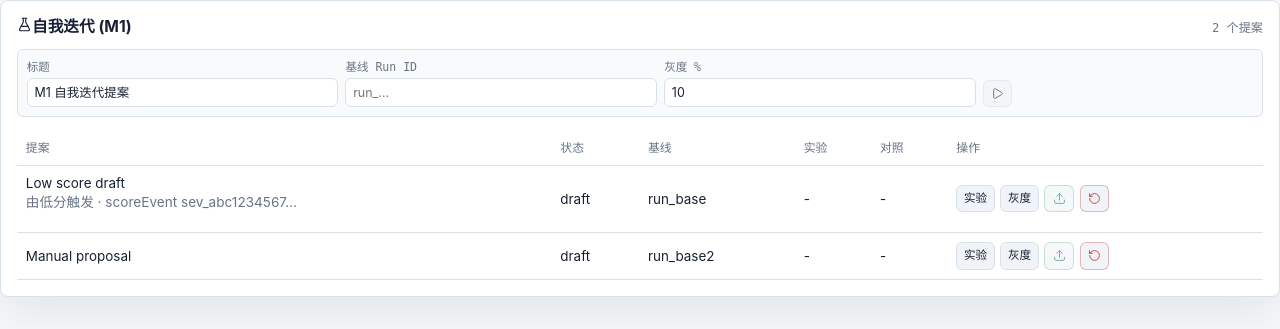
Test case: ImproveProposalsPane › disables canary when percent is out of 1–100
This screenshot has width=1280, height=329.
Check: the button with test id "improve-canary-imp_low" is shown, box [1000,185,1039,212]
Replace the text in the number field with test id "improve-canary-percent" with "150": {"x": 820, "y": 92} [664,78,976,107]
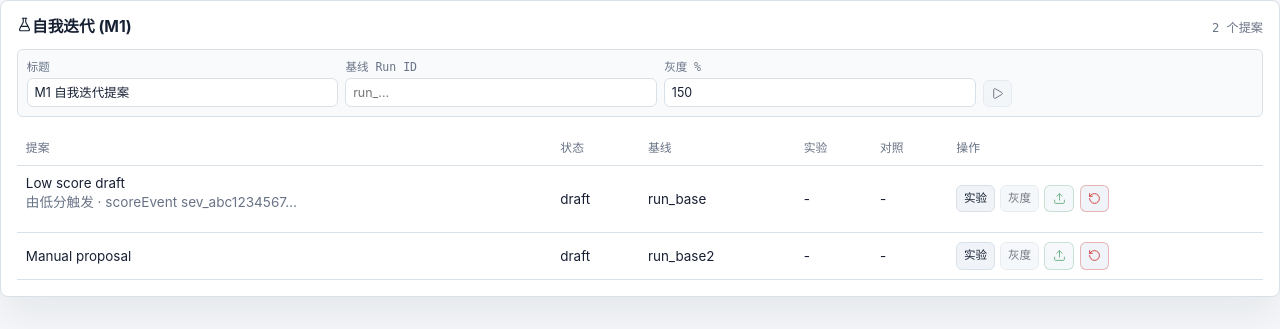
Check: the button with test id "improve-canary-imp_low" is disabled, box [1000,185,1039,212]
Replace the text in the number field with test id "improve-canary-percent" with "-1": {"x": 820, "y": 92} [664,78,976,107]
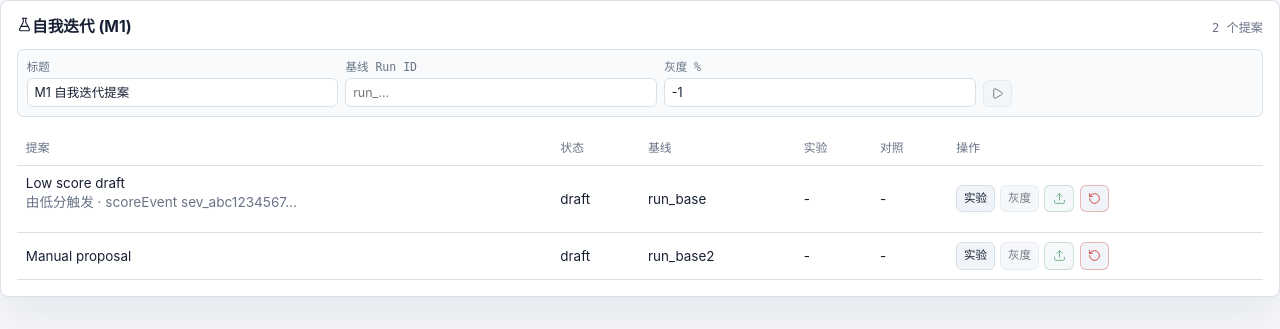
Check: the button with test id "improve-canary-imp_low" is disabled, box [1000,185,1039,212]
Replace the text in the number field with test id "improve-canary-percent" with "10": {"x": 820, "y": 92} [664,78,976,107]
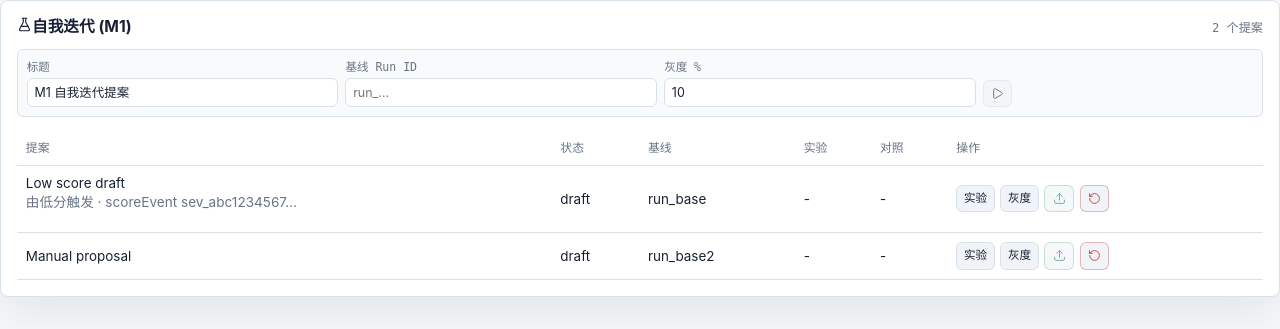
Check: the button with test id "improve-canary-imp_low" is enabled, box [1000,185,1039,212]
